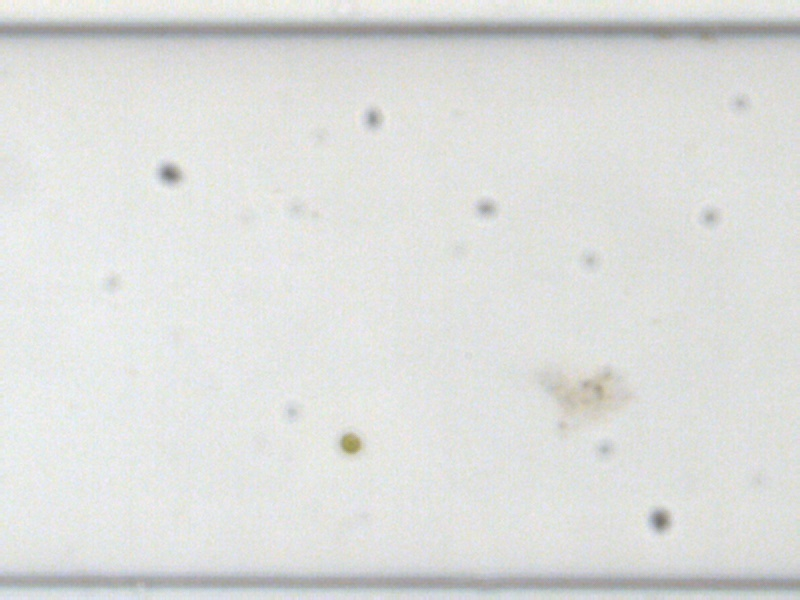Chlorella: (336, 432, 363, 455)
